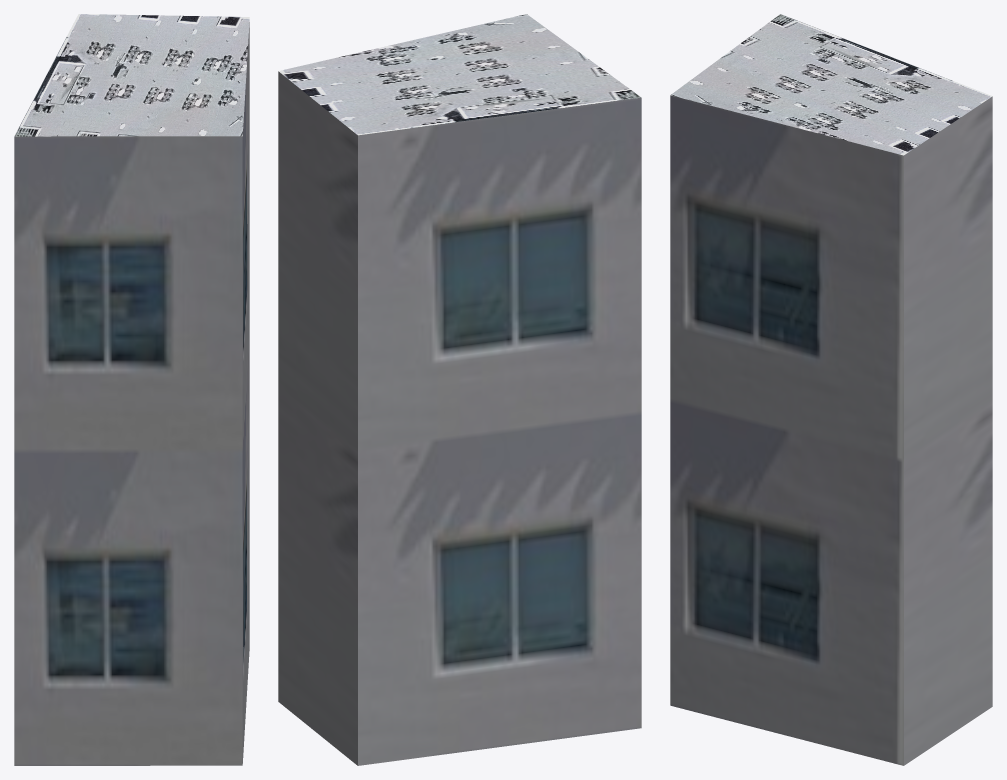
The model's file is ResTex__2051.fbx.
The picture shows the model from 3 angles, left to right: view 1: azimuth 30°, elevation 25°; view 2: azimuth 150°, elevation 25°; view 3: azimuth 270°, elevation 25°; orthographic projection. The views are drawn at different scales.
Visible parts, largest first — view 1: CityEngineMaterial_10_m, CityEngineMaterial_4_m; view 2: CityEngineMaterial_10_m, CityEngineMaterial_4_m; view 3: CityEngineMaterial_10_m, CityEngineMaterial_4_m.
Boxes of the visible parts, left/top/right/bottom form: CityEngineMaterial_10_m: left=14, top=22, right=249, bottom=765; CityEngineMaterial_4_m: left=14, top=14, right=249, bottom=136; CityEngineMaterial_10_m: left=278, top=71, right=641, bottom=765; CityEngineMaterial_4_m: left=278, top=14, right=641, bottom=135; CityEngineMaterial_10_m: left=670, top=95, right=992, bottom=765; CityEngineMaterial_4_m: left=670, top=14, right=992, bottom=155.
Bounding box in the file's own units: 2.98 × 6 × 2.87.
Materials: 2 (2 with a texture image).
